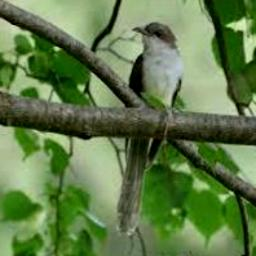Cuckoo: (118, 22, 184, 236)
